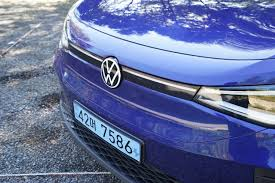car: (70, 101, 145, 166)
